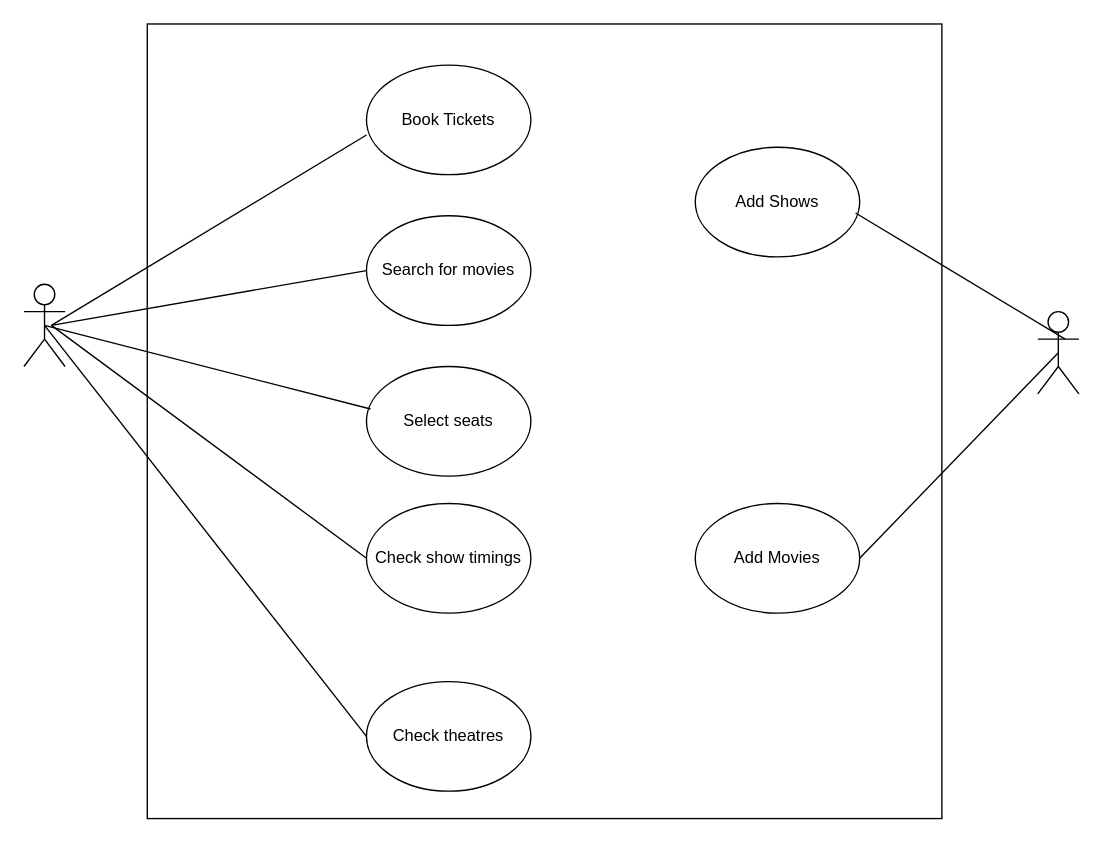
This 1110x843 diagram has some shape labels left out. The centre of each missing label's shape, as x and y in pixels:
System: (1057,352)
User: (44,324)
